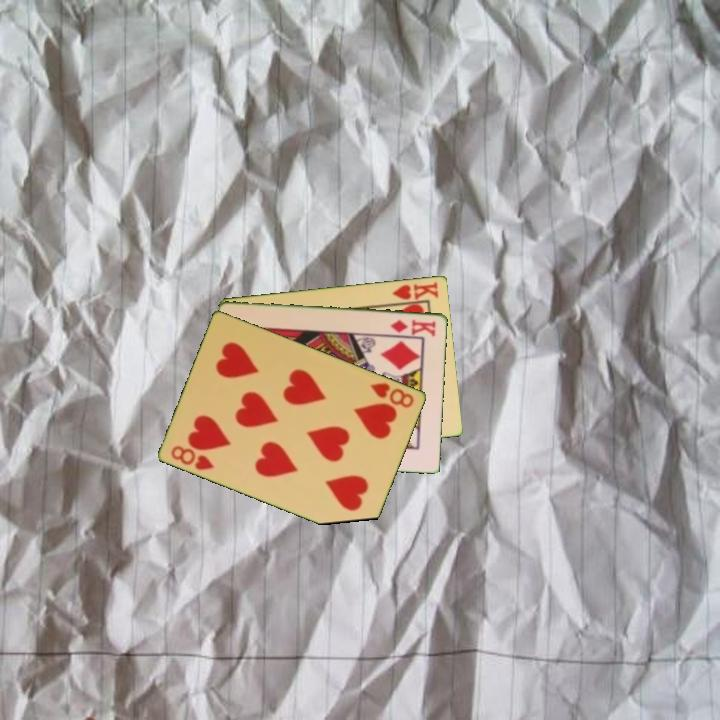8h: (367, 379, 417, 411), (168, 442, 217, 473)
Kd: (387, 316, 439, 337)
Kh: (387, 278, 442, 306)
